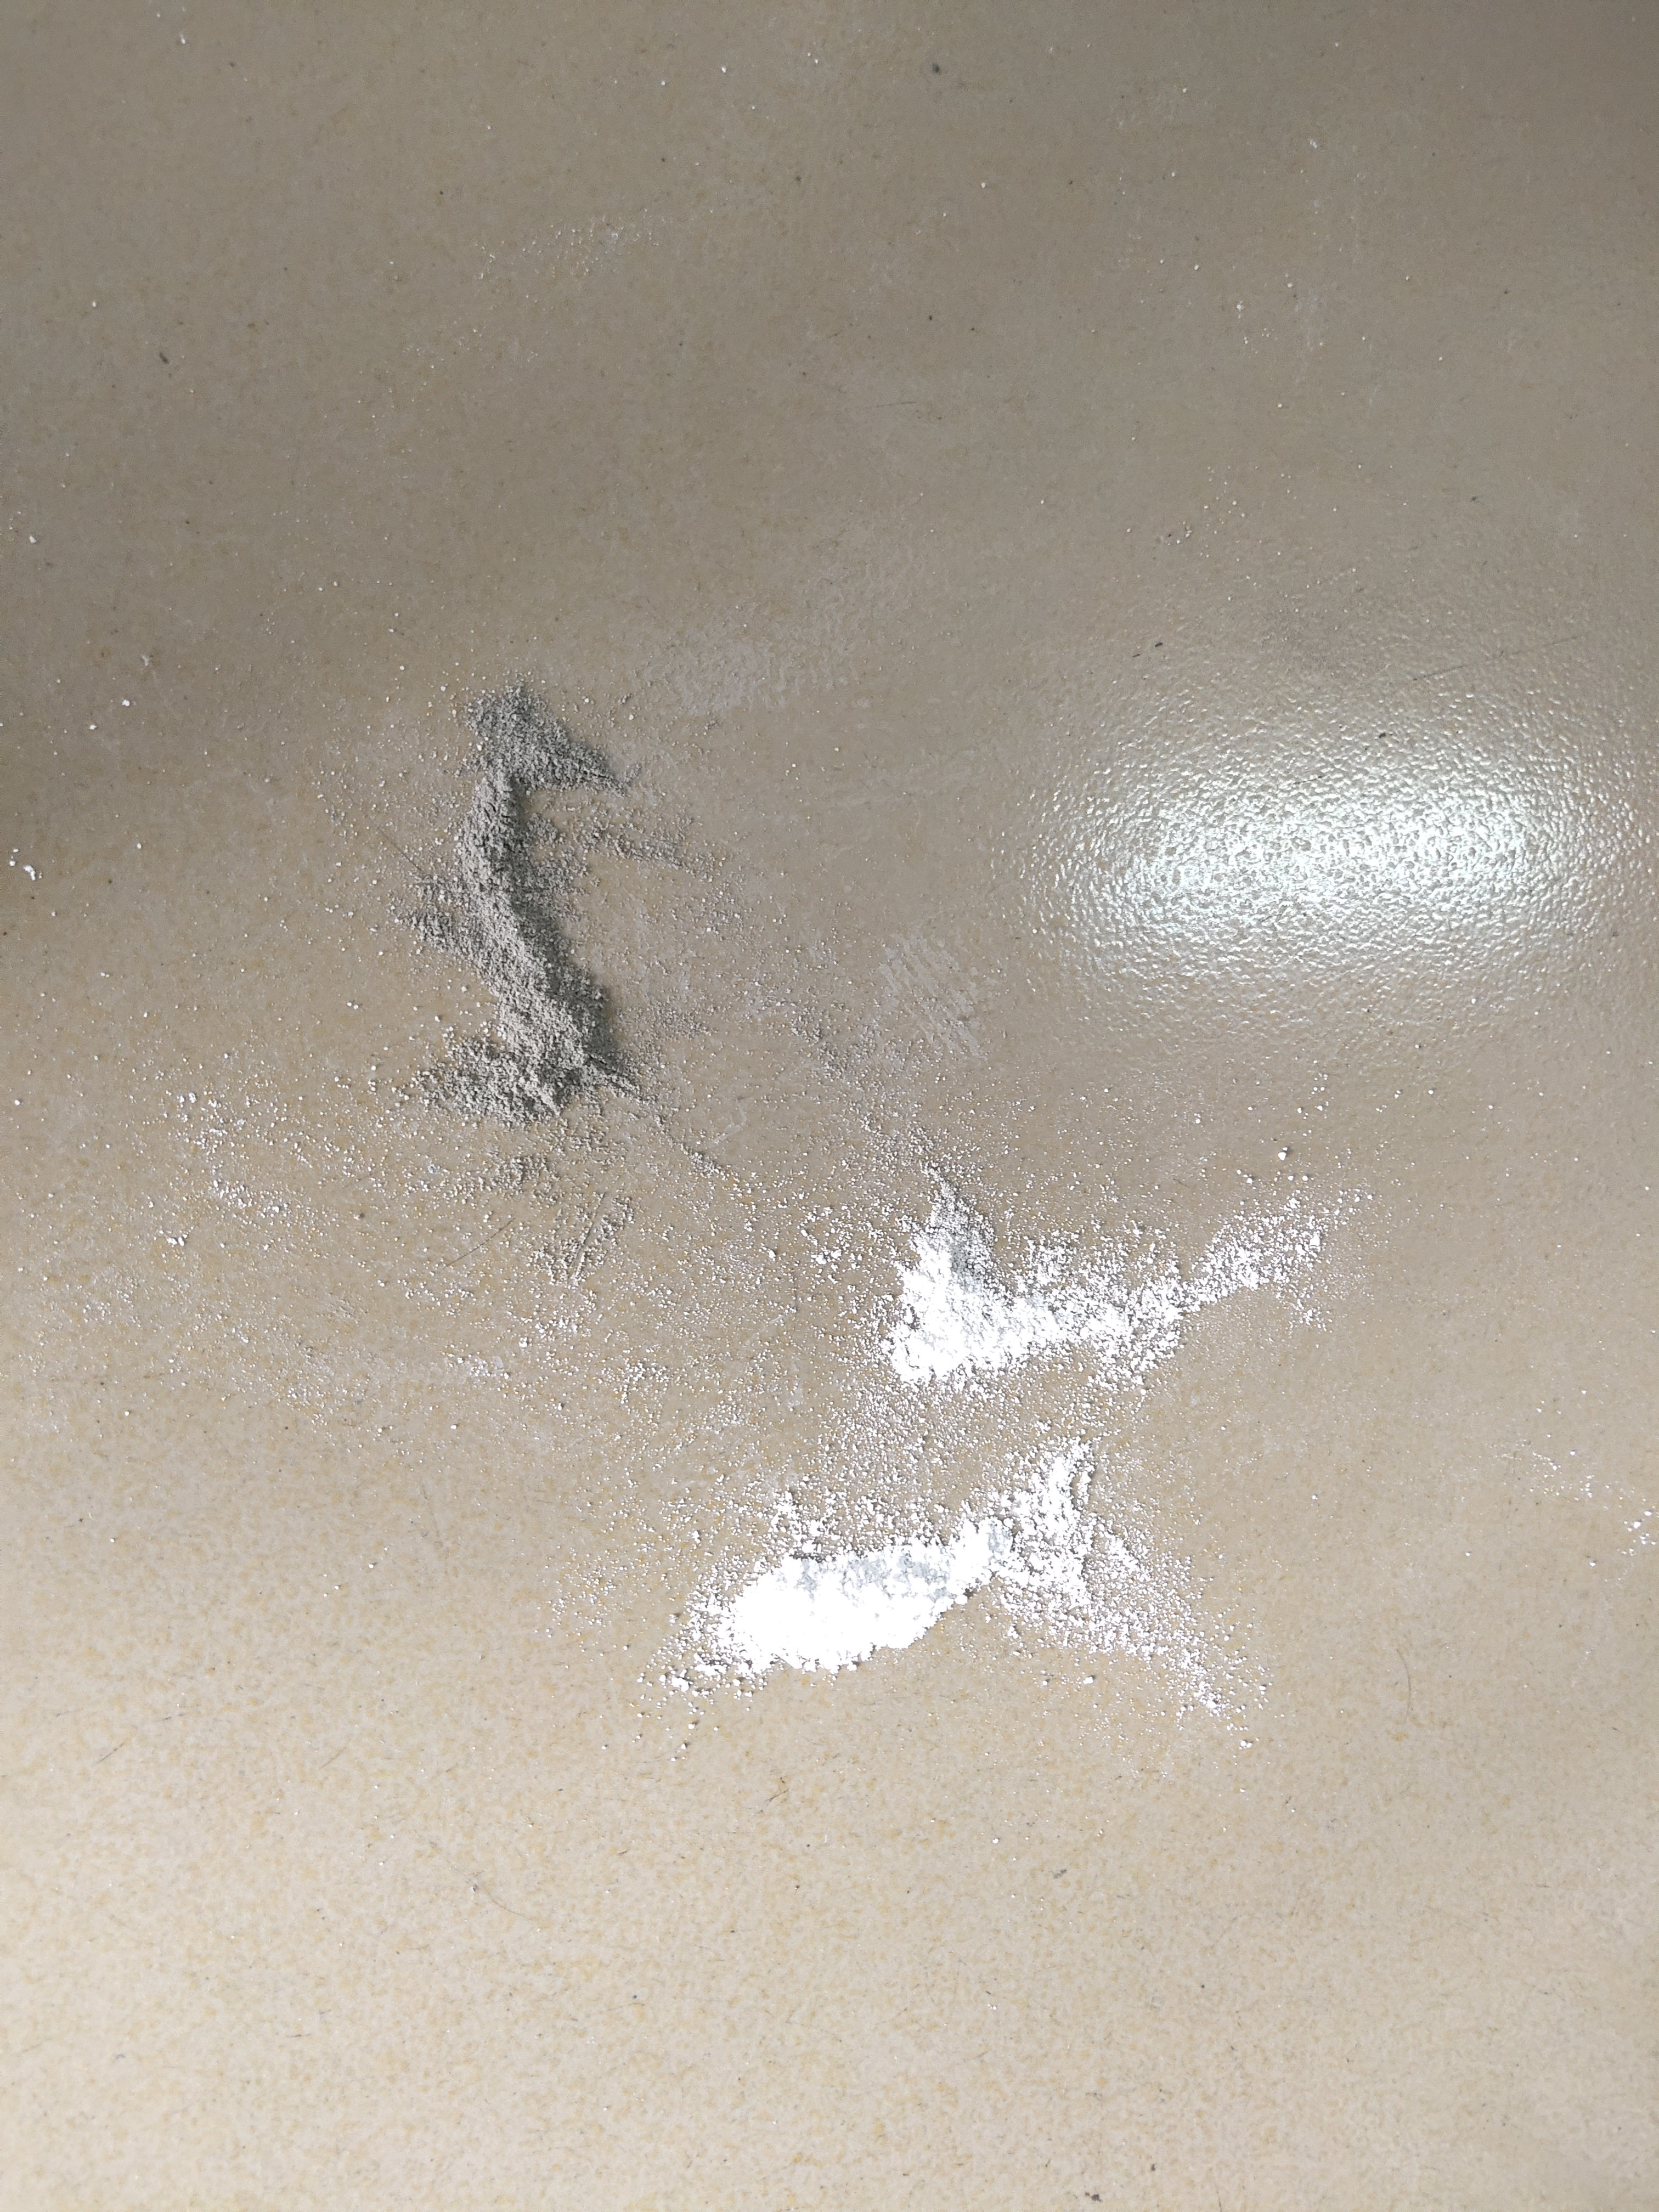ash pile: (638, 1416, 1262, 1735), (406, 681, 655, 1136), (882, 1170, 1368, 1386)
reflection: (1035, 758, 1612, 981)
